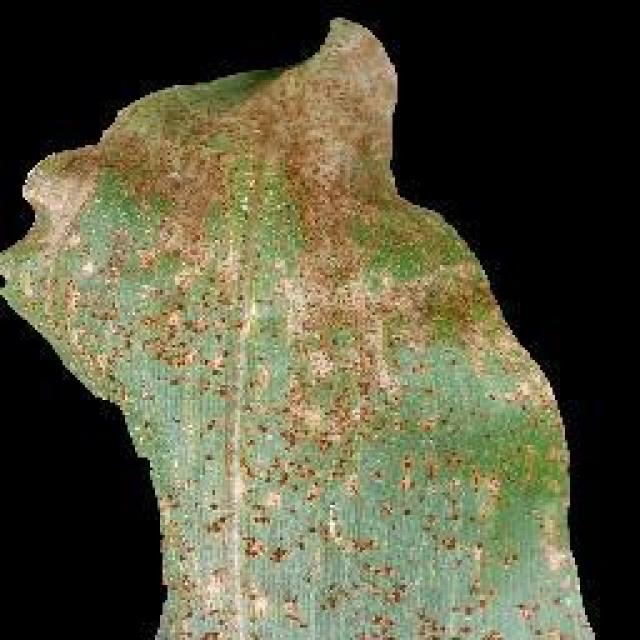Corn Common Rust: (135, 77, 547, 603)
